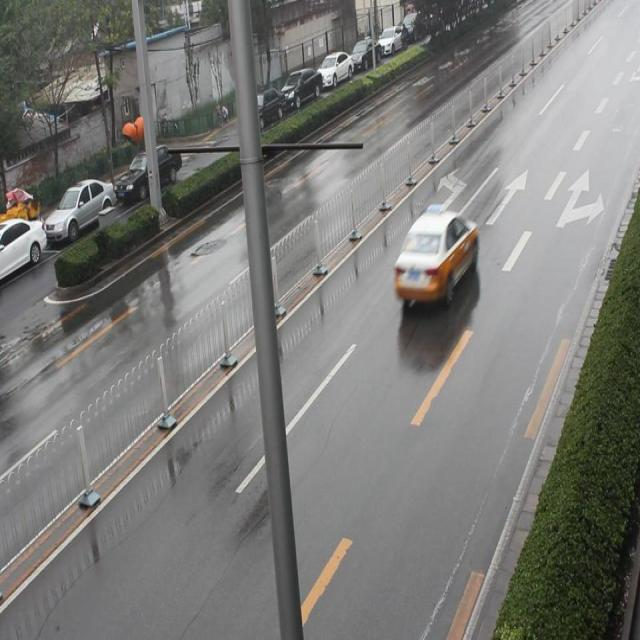car: (396, 200, 482, 318)
